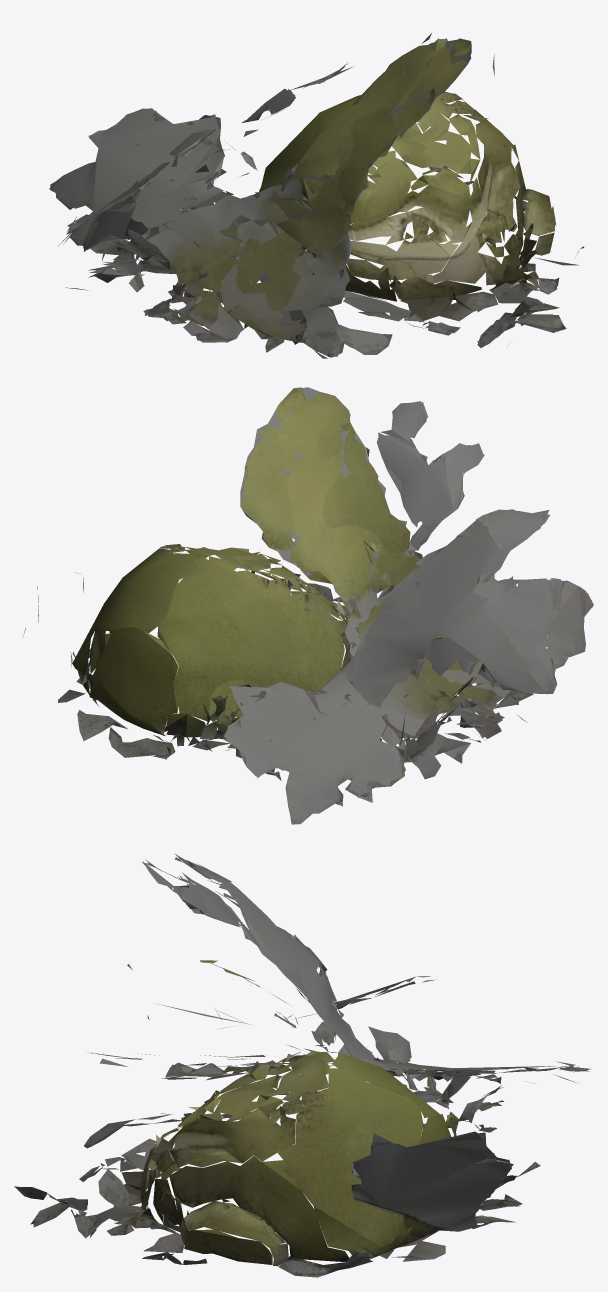
Rendered from fernCluster.glb.
3 renders of one model, top to bottom at view 1: azimuth 30°, elevation 25°; view 2: azimuth 150°, elevation 25°; view 3: azimuth 270°, elevation 25°, orthographic. The views are drawn at different scales.
Visible parts, largest first — view 1: Prop_fernCluster; view 2: Prop_fernCluster; view 3: Prop_fernCluster.
Part boxes in pixels (x1,y1,x2,y2): Prop_fernCluster: (49,33,584,358); Prop_fernCluster: (23,387,593,824); Prop_fernCluster: (14,853,590,1277).
Size of the model in its own units: 1.6 by 0.8938 by 1.58.
Materials: 1 (1 with a texture image).
